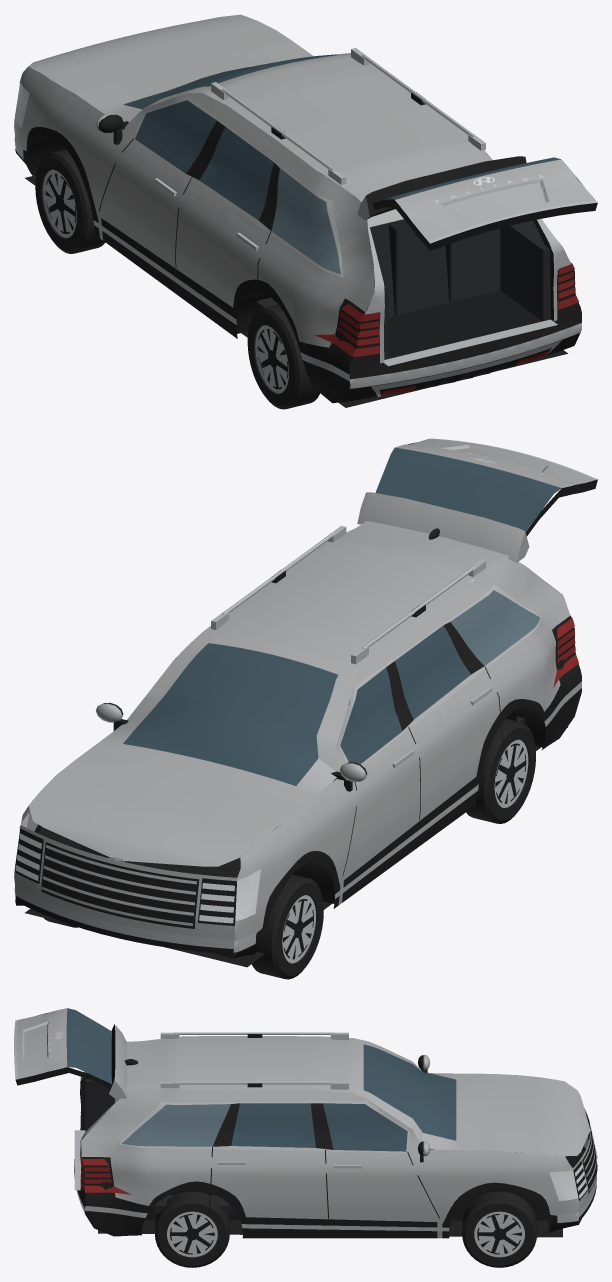
File: hyundai-palisade.glb
3 renders of one model, top to bottom at view 1: azimuth 30°, elevation 25°; view 2: azimuth 150°, elevation 25°; view 3: azimuth 270°, elevation 25°, orthographic. The views are drawn at different scales.
Visible parts, largest first — view 1: hyundai-palisade-body, hyundai-palisade-trim, hyundai-palisade-interior, hyundai-palisade-chrome, hyundai-palisade-glass, hyundai-palisade-tire, hyundai-palisade-cargo_floor, hyundai-palisade-glass_rear, hyundai-palisade-taillight, hyundai-palisade-wheel, hyundai-palisade-roof_rear; view 2: hyundai-palisade-body, hyundai-palisade-glass, hyundai-palisade-trim, hyundai-palisade-chrome, hyundai-palisade-tire, hyundai-palisade-glass_rear, hyundai-palisade-wheel, hyundai-palisade-roof_rear, hyundai-palisade-lamp, hyundai-palisade-taillight; view 3: hyundai-palisade-body, hyundai-palisade-trim, hyundai-palisade-glass, hyundai-palisade-chrome, hyundai-palisade-tire, hyundai-palisade-glass_rear, hyundai-palisade-wheel, hyundai-palisade-roof_rear, hyundai-palisade-interior, hyundai-palisade-taillight, hyundai-palisade-lamp.
Boxes of the visible parts, bbox=[...] form: hyundai-palisade-body: bbox=[14, 14, 595, 363]; hyundai-palisade-trim: bbox=[15, 83, 597, 407]; hyundai-palisade-interior: bbox=[253, 175, 550, 359]; hyundai-palisade-chrome: bbox=[14, 48, 597, 396]; hyundai-palisade-glass: bbox=[123, 54, 560, 220]; hyundai-palisade-tire: bbox=[35, 149, 319, 409]; hyundai-palisade-cargo_floor: bbox=[388, 290, 541, 358]; hyundai-palisade-glass_rear: bbox=[271, 168, 340, 274]; hyundai-palisade-taillight: bbox=[314, 263, 578, 396]; hyundai-palisade-wheel: bbox=[43, 169, 288, 393]; hyundai-palisade-roof_rear: bbox=[344, 153, 491, 201]; hyundai-palisade-body: bbox=[14, 439, 595, 941]; hyundai-palisade-glass: bbox=[123, 447, 561, 785]; hyundai-palisade-trim: bbox=[14, 442, 597, 967]; hyundai-palisade-chrome: bbox=[14, 438, 597, 952]; hyundai-palisade-tire: bbox=[43, 719, 535, 979]; hyundai-palisade-glass_rear: bbox=[450, 590, 540, 665]; hyundai-palisade-wheel: bbox=[282, 739, 528, 963]; hyundai-palisade-roof_rear: bbox=[345, 521, 507, 567]; hyundai-palisade-lamp: bbox=[15, 813, 260, 923]; hyundai-palisade-taillight: bbox=[553, 617, 578, 687]; hyundai-palisade-body: bbox=[16, 1008, 596, 1238]; hyundai-palisade-trim: bbox=[15, 1013, 597, 1254]; hyundai-palisade-glass: bbox=[66, 1008, 456, 1151]; hyundai-palisade-chrome: bbox=[14, 1020, 597, 1231]; hyundai-palisade-tire: bbox=[155, 1191, 537, 1267]; hyundai-palisade-glass_rear: bbox=[122, 1104, 230, 1146]; hyundai-palisade-wheel: bbox=[167, 1211, 524, 1257]; hyundai-palisade-roof_rear: bbox=[126, 1039, 159, 1091]; hyundai-palisade-interior: bbox=[85, 1077, 235, 1213]; hyundai-palisade-taillight: bbox=[80, 1112, 130, 1194]; hyundai-palisade-lamp: bbox=[549, 1164, 587, 1200].
Bounding box in the file's own units: 2.17 × 2.04 × 5.64.
